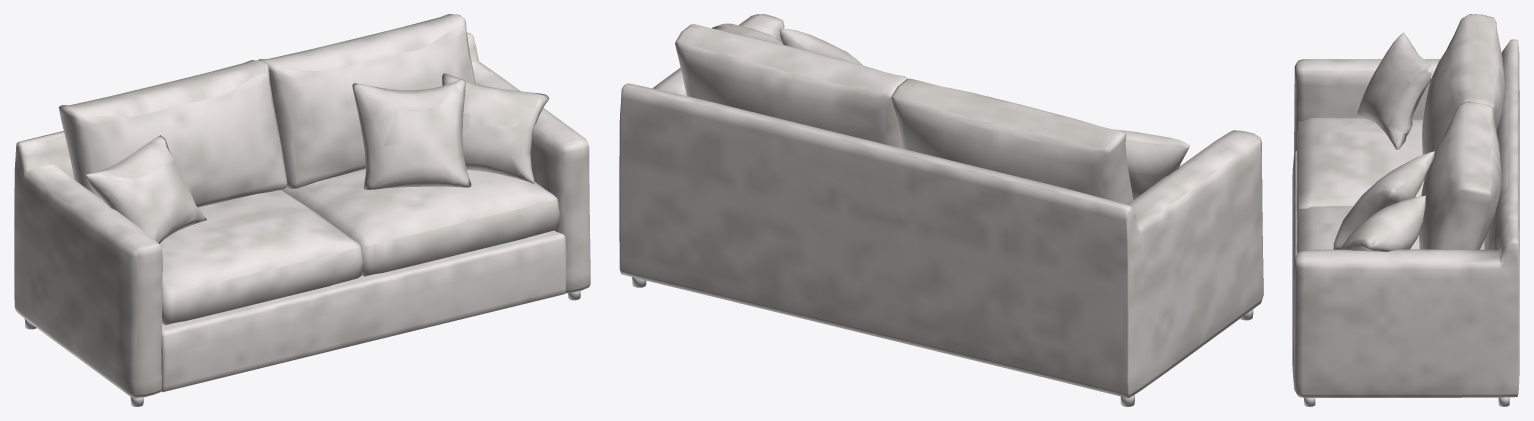
The model's file is Sofa3.fbx.
3 renders of one model, left to right at view 1: azimuth 30°, elevation 25°; view 2: azimuth 150°, elevation 25°; view 3: azimuth 270°, elevation 25°, orthographic. The views are drawn at different scales.
Visible parts, largest first — view 1: Sofa Two-Seater 002_9; view 2: Sofa Two-Seater 002_9; view 3: Sofa Two-Seater 002_9.
Boxes of the visible parts, <box> form: Sofa Two-Seater 002_9: <box>14,14,590,398</box>; Sofa Two-Seater 002_9: <box>619,14,1263,398</box>; Sofa Two-Seater 002_9: <box>1292,14,1519,397</box>.
Size of the model in its own units: 198 by 91.4 by 91.4.
